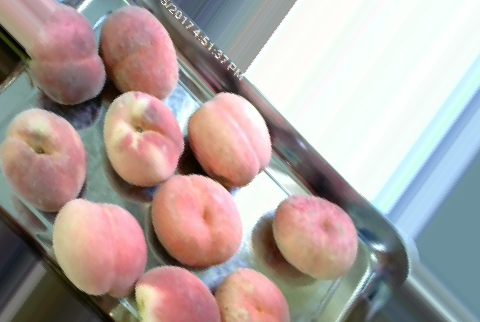Peach: (48, 199, 147, 299), (3, 108, 90, 214), (149, 177, 243, 269), (186, 91, 271, 186), (103, 91, 183, 185), (30, 4, 105, 104), (272, 193, 358, 279), (99, 5, 177, 98), (130, 266, 223, 322), (214, 266, 290, 320)
